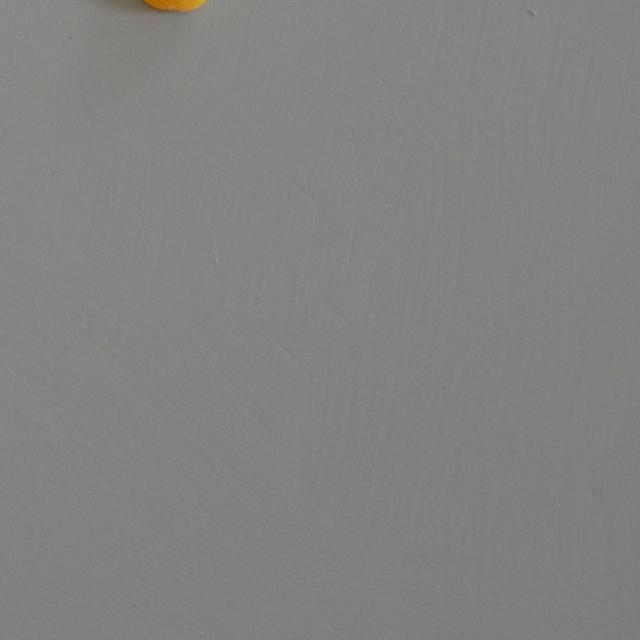dañado: (108, 0, 222, 14)
